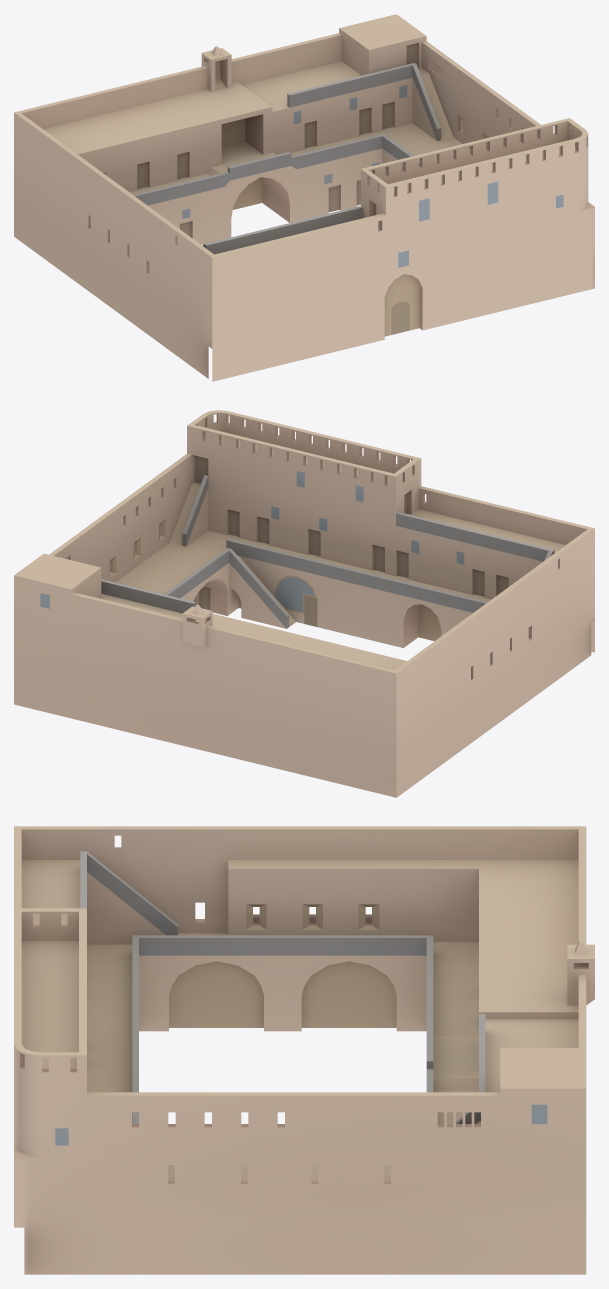
3 views of the same model, one above another, from view 1: azimuth 30°, elevation 25°; view 2: azimuth 150°, elevation 25°; view 3: azimuth 270°, elevation 25° (orthographic). The views are drawn at different scales.
Parts seen in each view (by area): view 1: 70030076325322635_baked; view 2: 70030076325322635_baked; view 3: 70030076325322635_baked.
Boxes of the visible parts, box(x1,y1,x2,y2) form: 70030076325322635_baked: box(14, 14, 594, 381); 70030076325322635_baked: box(14, 410, 594, 797); 70030076325322635_baked: box(14, 826, 594, 1274).
Size of the model in its own units: 24.5 by 9.3 by 22.33.
1 material, 1 textured.
